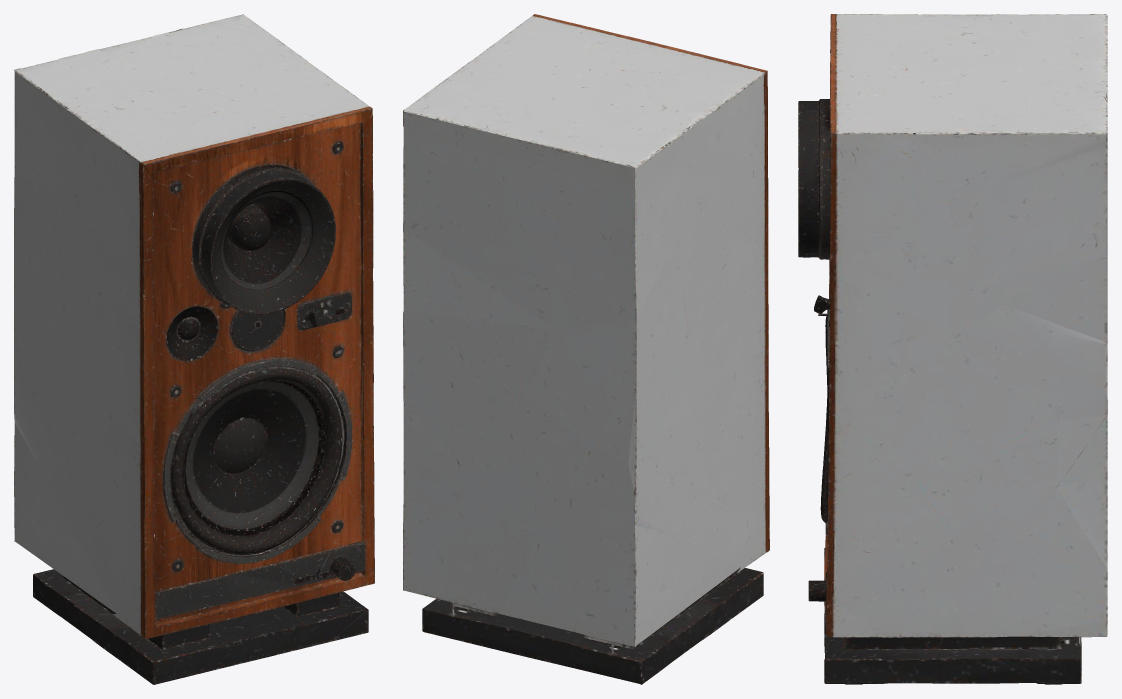
File: monitor.glb
The picture shows the model from 3 angles, left to right: view 1: azimuth 30°, elevation 25°; view 2: azimuth 150°, elevation 25°; view 3: azimuth 270°, elevation 25°; orthographic projection. The views are drawn at different scales.
Visible parts, largest first — view 1: output_unwrapped; view 2: output_unwrapped; view 3: output_unwrapped.
Boxes of the visible parts, x1,y1,x2,y2 form: output_unwrapped: [14, 14, 374, 684]; output_unwrapped: [403, 14, 769, 684]; output_unwrapped: [798, 14, 1107, 684].
Bounding box in the file's own units: 0.2737 × 0.5999 × 0.2991.
Materials: 1 (1 with a texture image).
